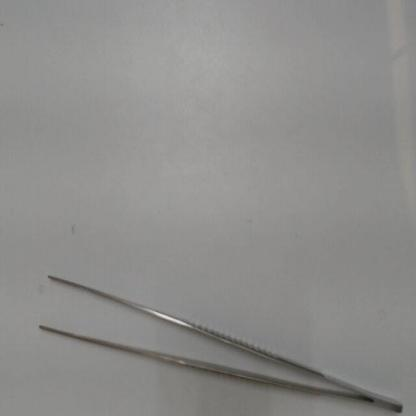DeBakey Dissector: (35, 261, 406, 413)
